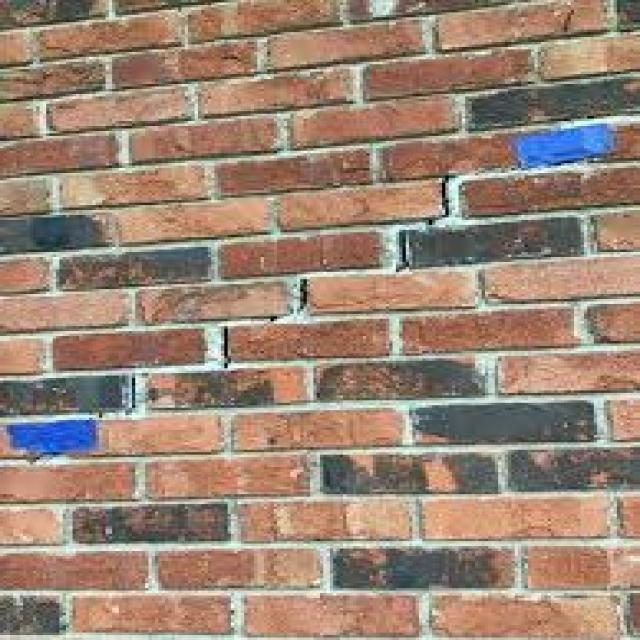Crack: (96, 173, 462, 415)
